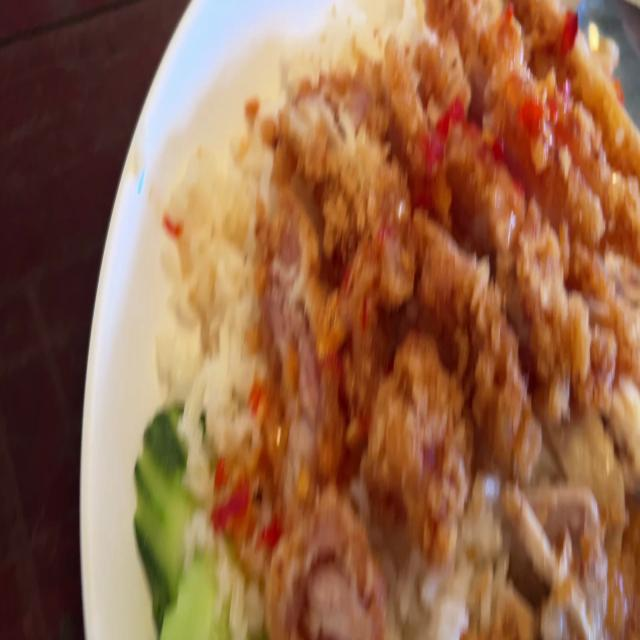boiled_chicken: (495, 485, 640, 640)
chicken_rice: (134, 0, 640, 640)
cucumber: (134, 393, 230, 638)
fried_chicken: (236, 0, 640, 527)
